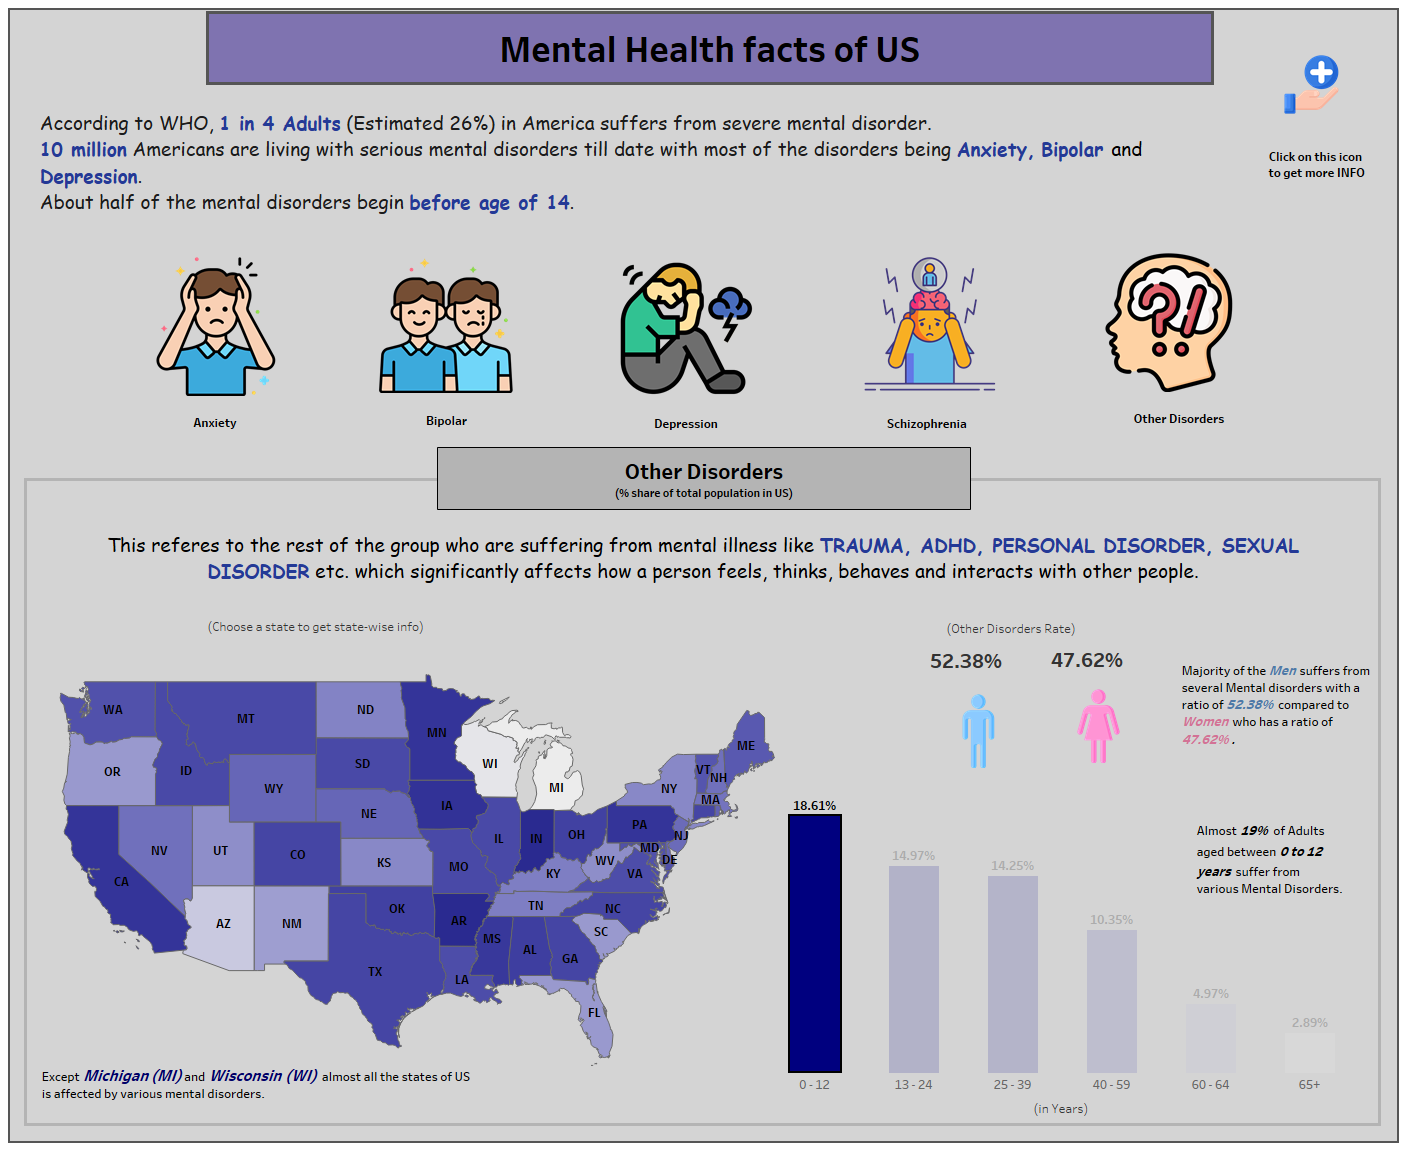

The dashboard page shown, as its layout file describes it:
{"tool":"tableau","page":{"name":"Mental Dash","canvas":[1169,827],"ordinal":7},"visuals":[{"type":"text","box":[8,8,1153,70]},{"type":"dashboard-object","box":[938.7,92,175.4,42.4]},{"type":"dashboard-object","box":[722.4,94.1,182.4,41.3]},{"type":"dashboard-object","box":[505,95.1,182.4,39.3]},{"type":"dashboard-object","box":[285.2,96.1,181.2,38.2]},{"type":"dashboard-object","box":[62,97.2,187,36.2]},{"type":"worksheet","title":"Mental HLTH Map","mark":"Automatic","box":[8,178,626.5,307]},{"type":"worksheet","title":"PieChartMentalHlth","mark":"Pie","cols":["Calculation_1440588931308781577","Calculation_1440588931309305867"],"box":[634.5,178,526.5,307]},{"type":"worksheet","title":"MENTHLTH","mark":"Automatic","rows":["Calculation_2714263200890437632"],"cols":["Year"],"box":[8,485,1153,334]}]}

Visuals, with their boxes on the page's 1169x827 design canvas (x1, y1, x2, y2). These are canvas units, not pixel positions in the 1407x1151 screenshot, which may show the page scaled, cropped or inside an application window:
text: 8, 8, 1161, 78
dashboard-object: 939, 92, 1114, 134
dashboard-object: 722, 94, 905, 135
dashboard-object: 505, 95, 687, 134
dashboard-object: 285, 96, 466, 134
dashboard-object: 62, 97, 249, 133
"Mental HLTH Map" worksheet: 8, 178, 634, 485
"PieChartMentalHlth" worksheet (Pie marks): 634, 178, 1161, 485
"MENTHLTH" worksheet: 8, 485, 1161, 819
